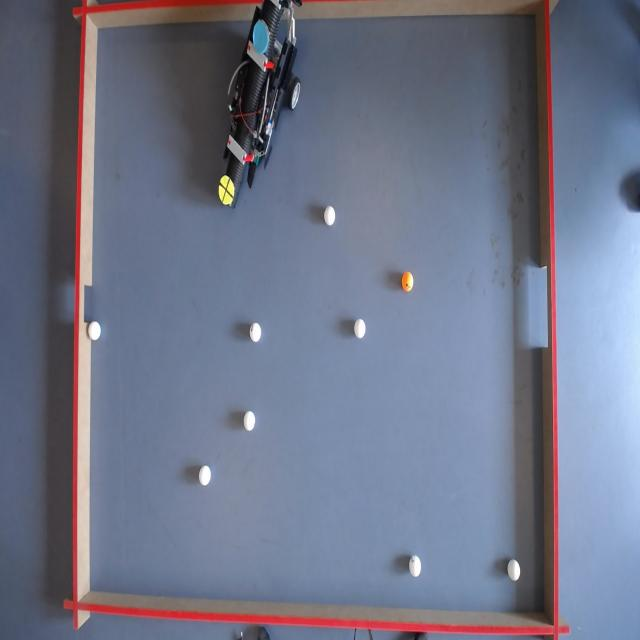orange: (404, 272, 416, 291)
robot: (215, 0, 303, 207)
robot-front: (218, 175, 234, 207)
robot-rear: (251, 20, 269, 54)
white: (509, 560, 523, 582), (200, 464, 213, 486), (410, 556, 423, 578), (323, 206, 336, 227), (90, 321, 104, 340), (354, 319, 366, 339), (244, 412, 256, 432), (250, 322, 262, 342)
